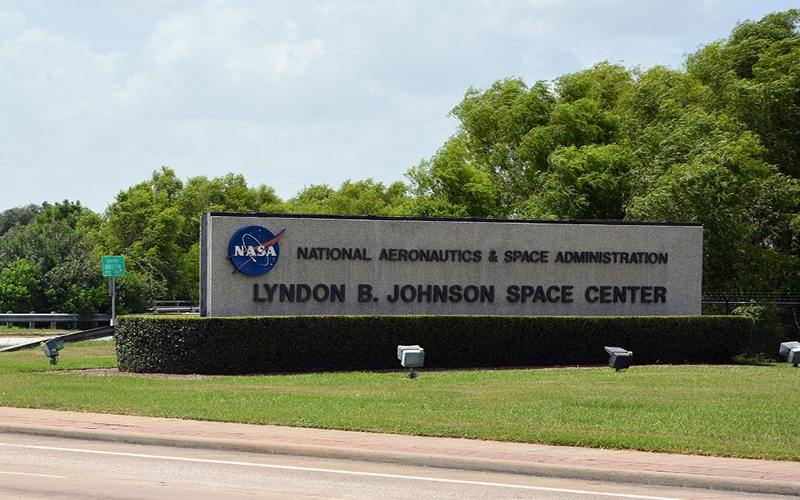NASA: (222, 220, 289, 280)
